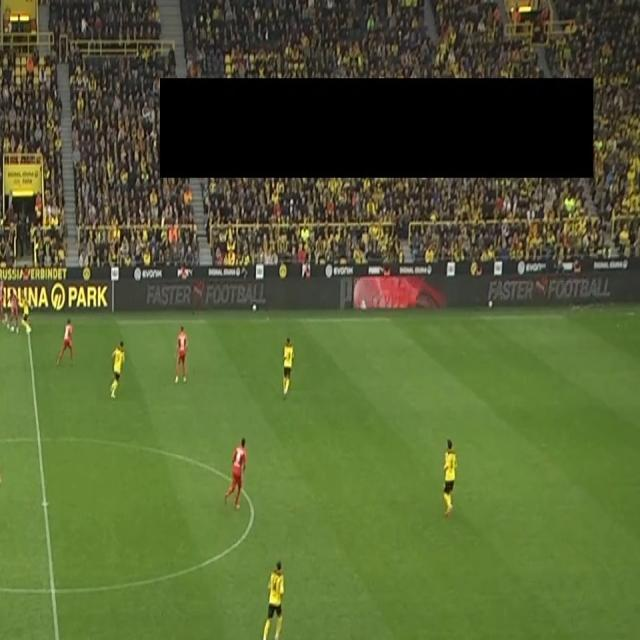ball: (10, 323, 16, 334)
